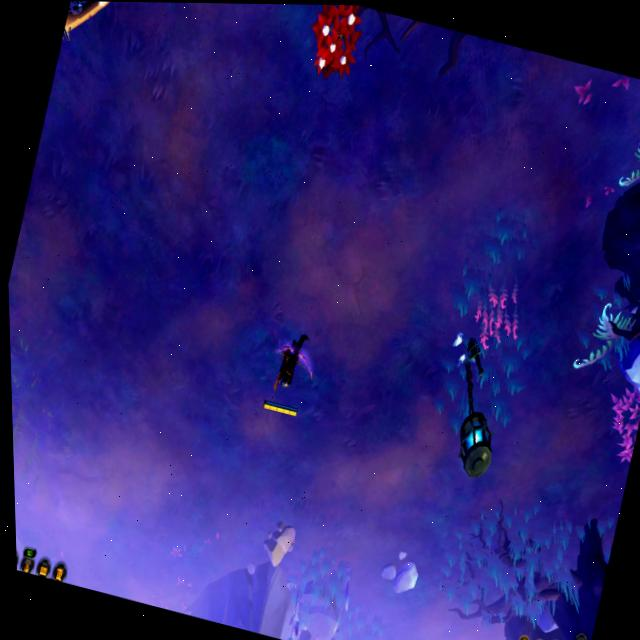10: (422, 321, 523, 494)
hide: (297, 4, 371, 91)
red: (253, 320, 325, 429)
